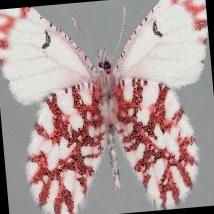butterfly: (0, 0, 208, 214)
